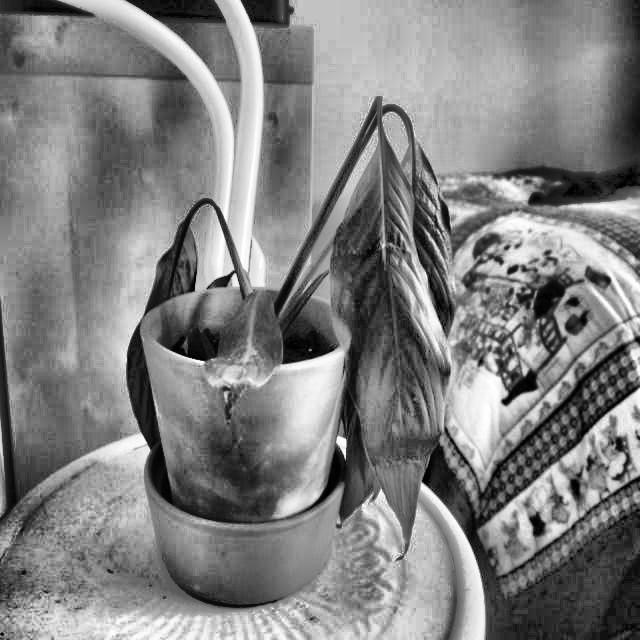plants: (117, 95, 458, 569), (210, 271, 286, 429)
